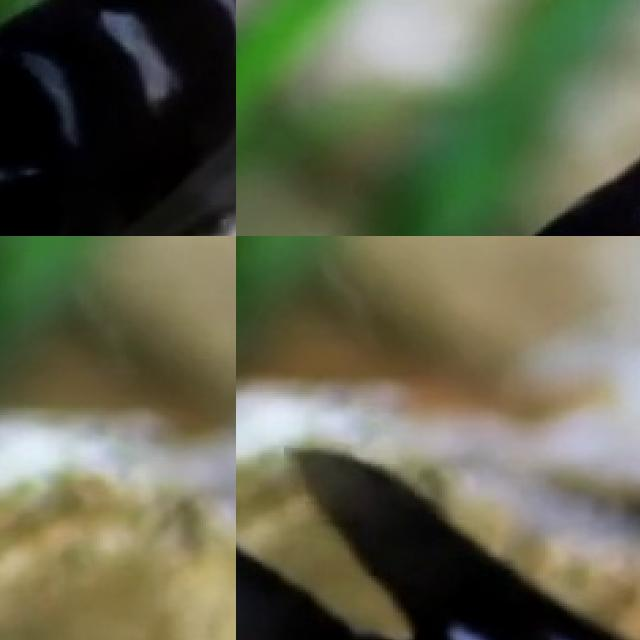fish: (236, 431, 640, 640), (0, 0, 236, 236)
